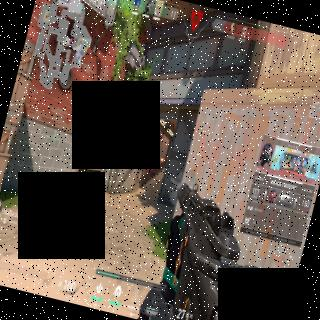ENEMY-BODY: (148, 155, 158, 179)
ENEMY-HEAD: (154, 155, 156, 159)
